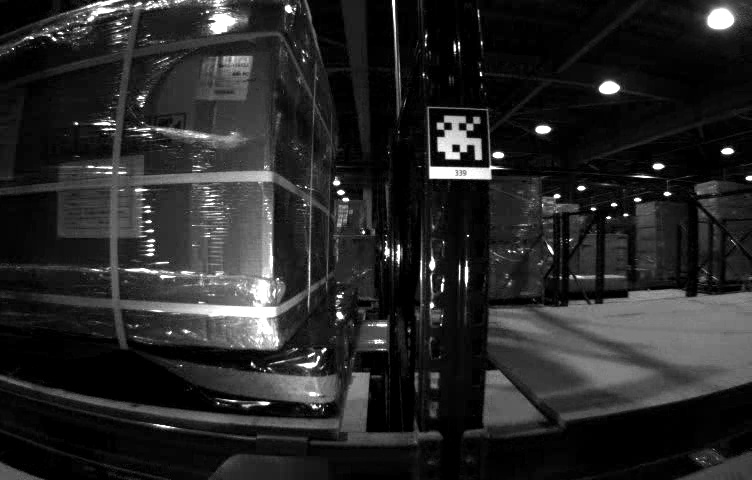True Barcode: (197, 57, 252, 99)
